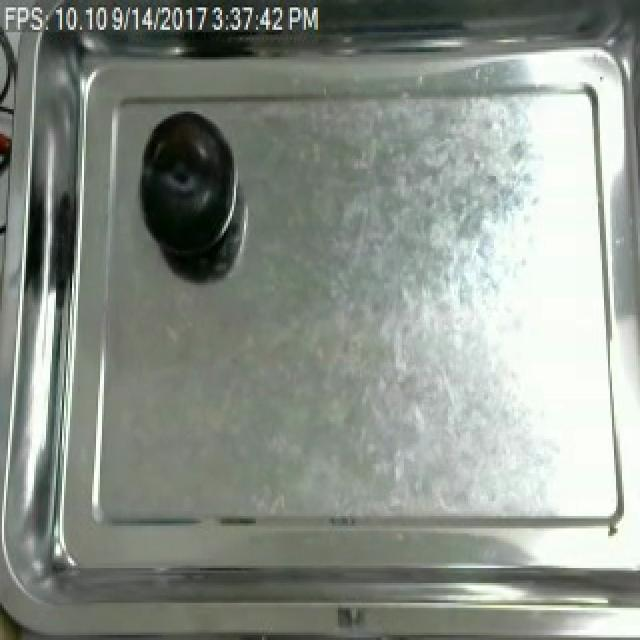Fruit: (134, 107, 240, 268)
